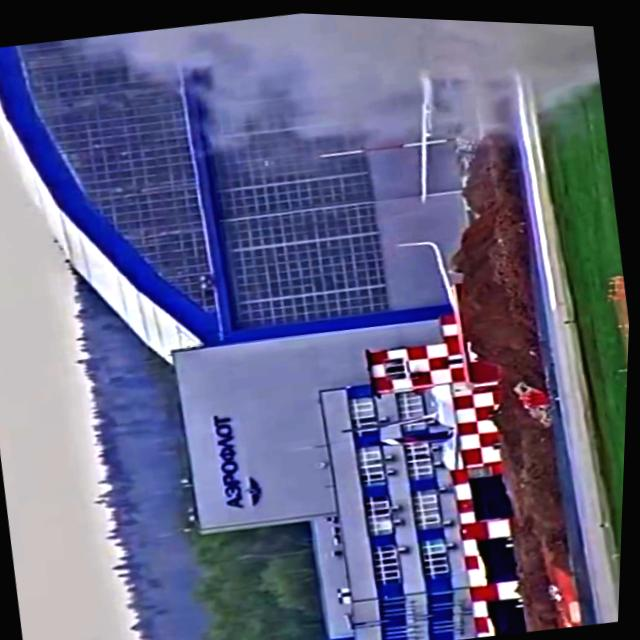smoke: (16, 1, 601, 160)
